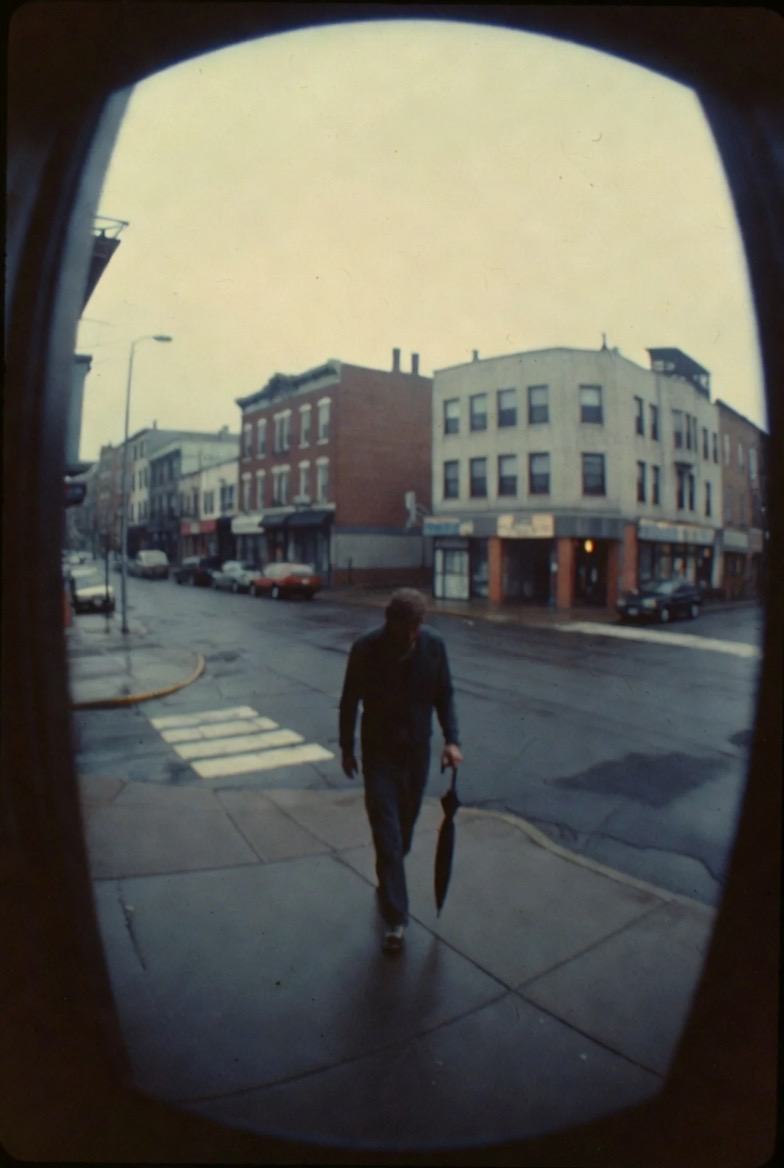person: (337, 587, 464, 955)
umbrella: (434, 764, 460, 917)
